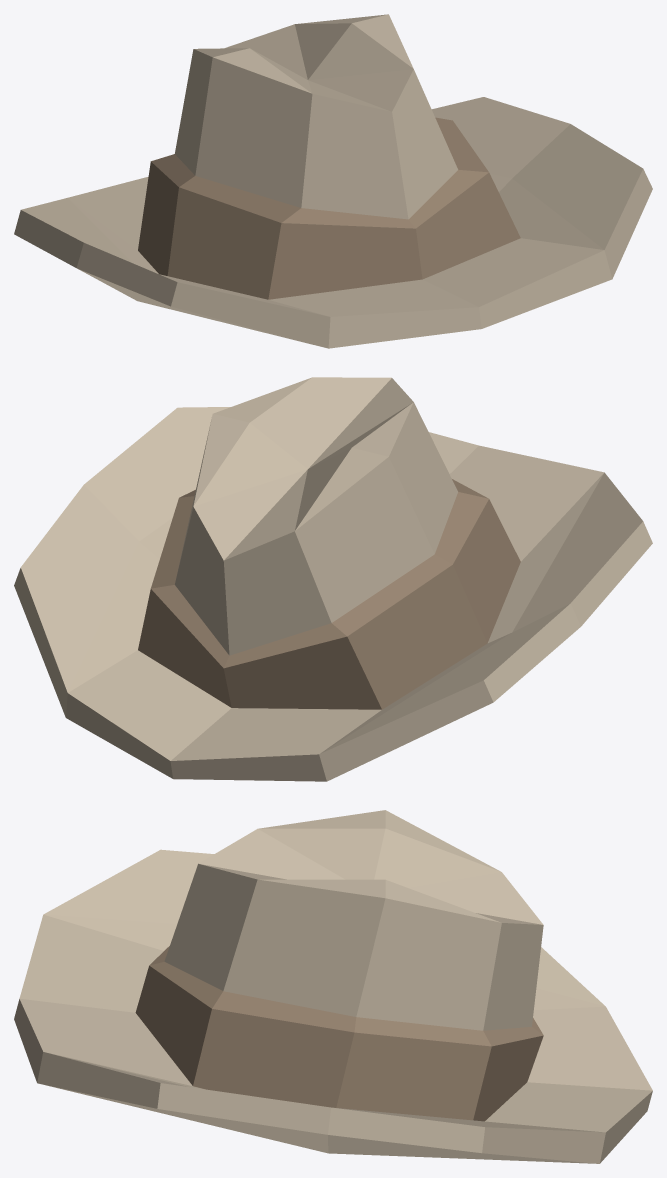
Rendered from SM_Chr_Attach_Hat_Female_01.glb.
The picture shows the model from 3 angles, top to bottom: view 1: azimuth 30°, elevation 25°; view 2: azimuth 150°, elevation 25°; view 3: azimuth 270°, elevation 25°; orthographic projection. The views are drawn at different scales.
Visible parts, largest first — view 1: SM_Chr_Attach_Hat_Female_01; view 2: SM_Chr_Attach_Hat_Female_01; view 3: SM_Chr_Attach_Hat_Female_01.
Boxes of the visible parts, x1=… form: SM_Chr_Attach_Hat_Female_01: x1=14, y1=14, x2=652, y2=348; SM_Chr_Attach_Hat_Female_01: x1=14, y1=377, x2=652, y2=781; SM_Chr_Attach_Hat_Female_01: x1=14, y1=810, x2=652, y2=1163.
Size of the model in its own units: 0.4583 by 0.2174 by 0.4896.
1 material, 1 textured.
